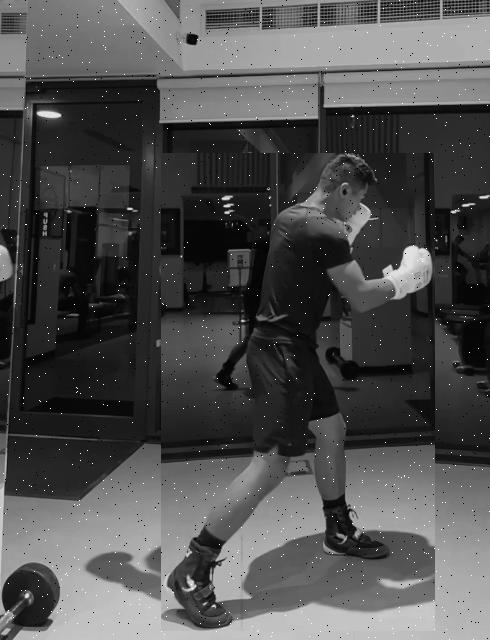punch: (161, 153, 435, 631)
